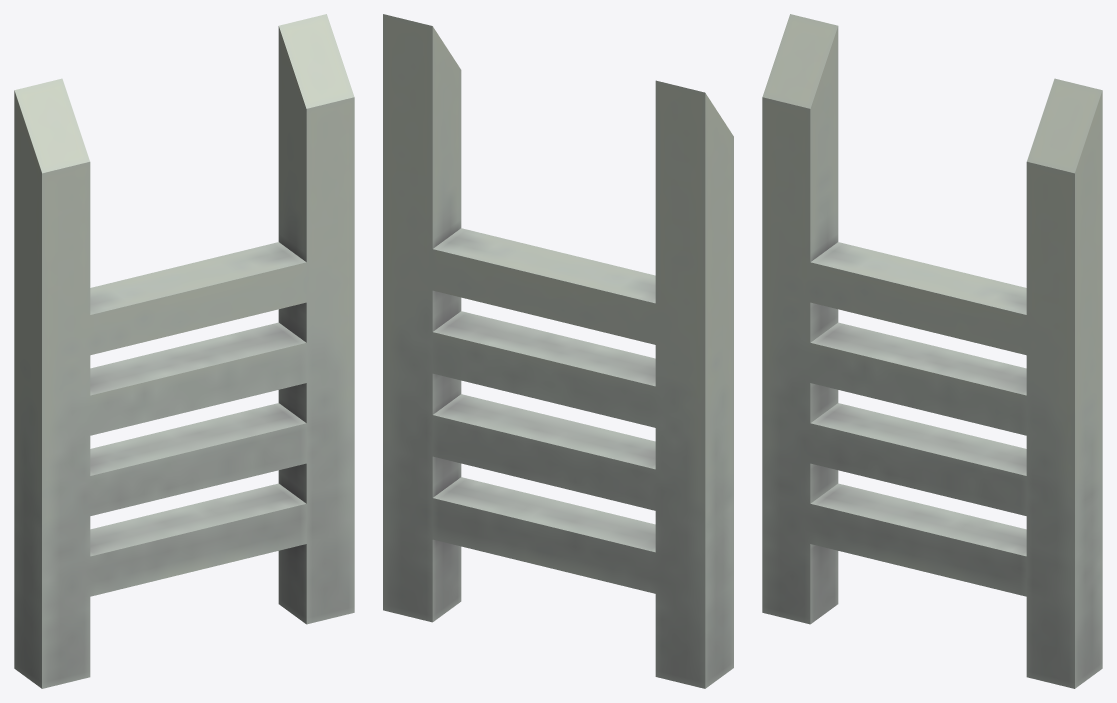
Rendered from ladder.obj.
3 views of the same model, side by side, from view 1: azimuth 30°, elevation 25°; view 2: azimuth 150°, elevation 25°; view 3: azimuth 330°, elevation 25° (orthographic). The views are drawn at different scales.
Parts seen in each view (by area): view 1: Ladder; view 2: Ladder; view 3: Ladder.
Part boxes in pixels (bbox=[...]): Ladder: bbox=[14, 14, 354, 688]; Ladder: bbox=[383, 14, 733, 688]; Ladder: bbox=[762, 14, 1102, 688].
Bounding box in the file's own units: 1.62 × 2.88 × 0.25.
Materials: 1 (1 with a texture image).
